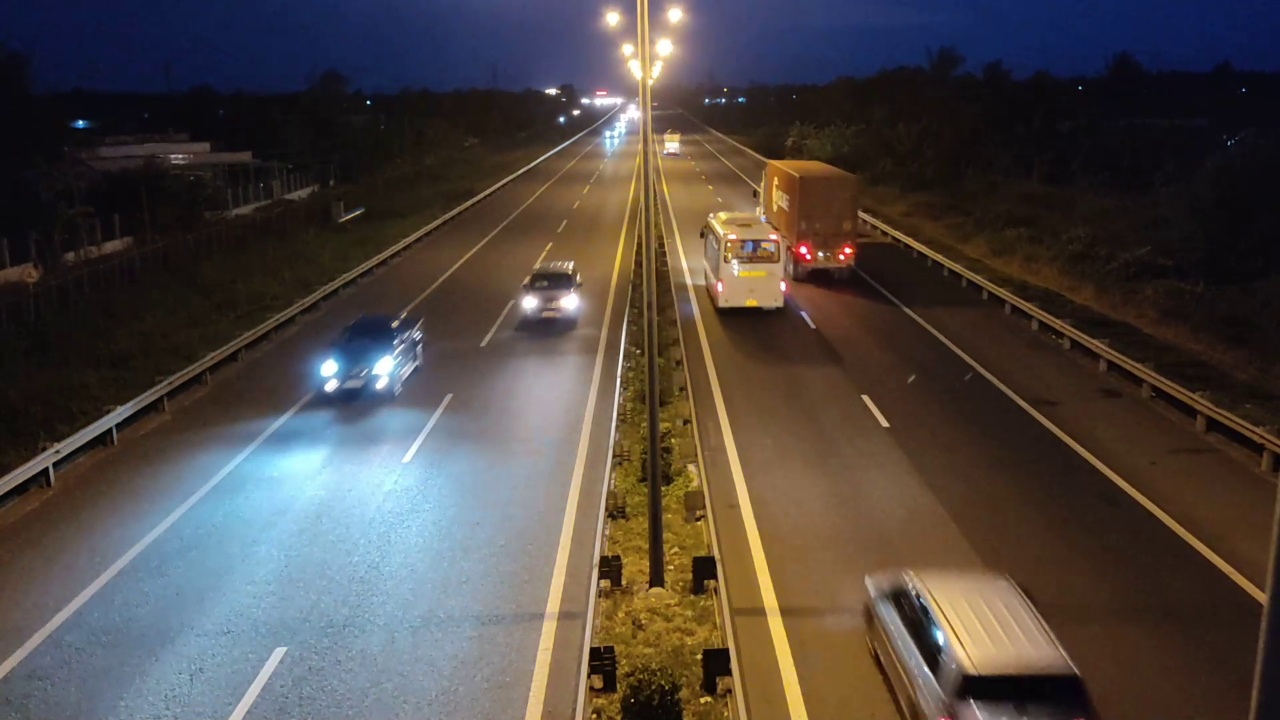bus: (698, 203, 787, 315)
car: (859, 554, 1090, 713), (315, 313, 426, 402), (516, 261, 584, 331)
truck: (759, 157, 861, 281)
